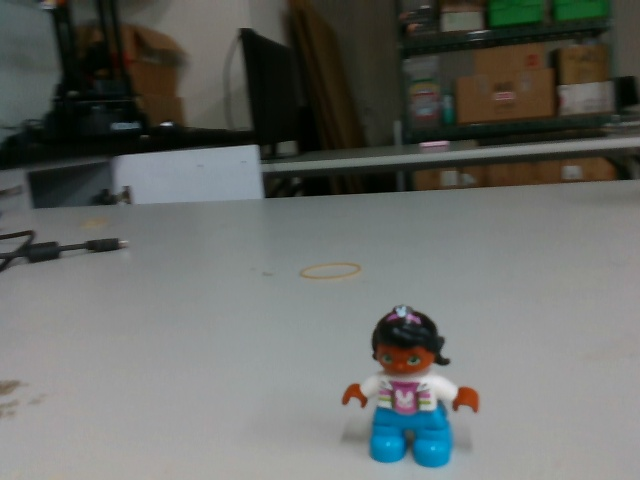people: (339, 298, 482, 473)
